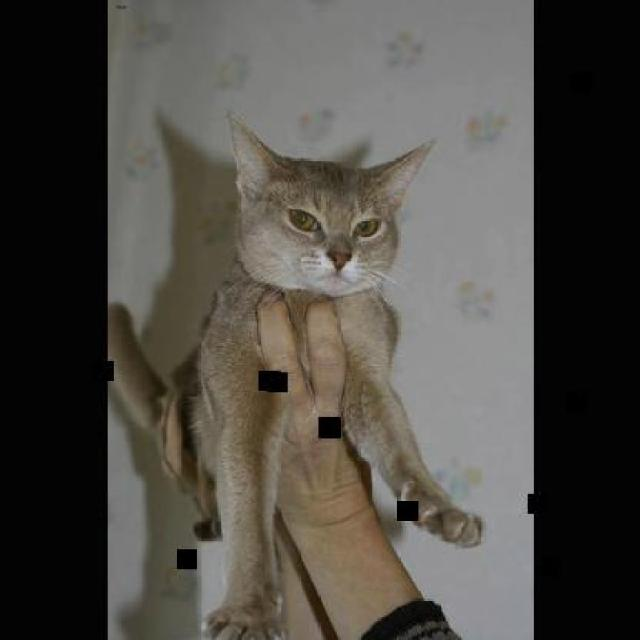unauthorized: (154, 110, 483, 638)
